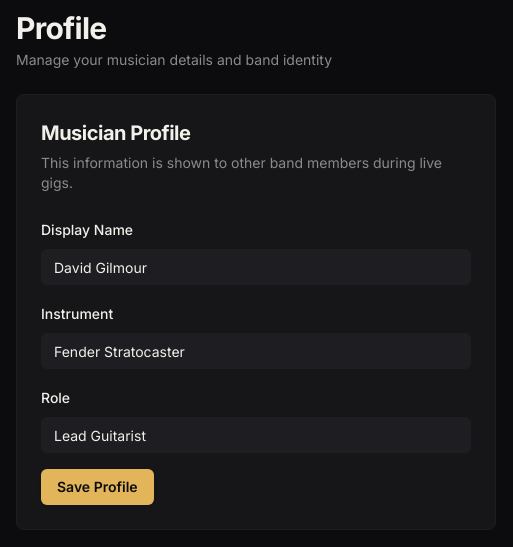
ProfilePage (/profile) › saves updates to users table on save button click
The image size is (513, 547).
Replace the text in the field labelled "Display Name" with "Roger Waters" at (256, 267), box [41, 249, 471, 285]
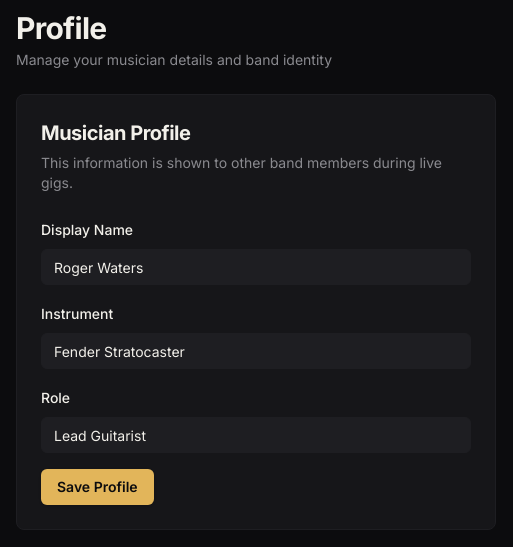
Replace the text in the field labelled "Instrument" with "Bass Guitar" at (256, 351), box [41, 333, 471, 369]
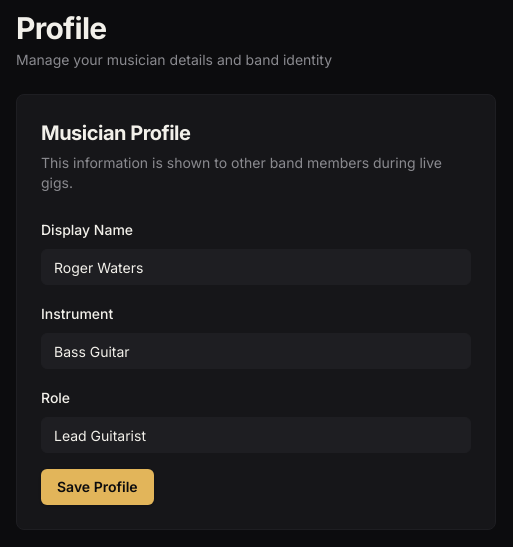
Replace the text in the field labelled "Role" with "Bassist & Vocals" at (256, 435), box [41, 417, 471, 453]
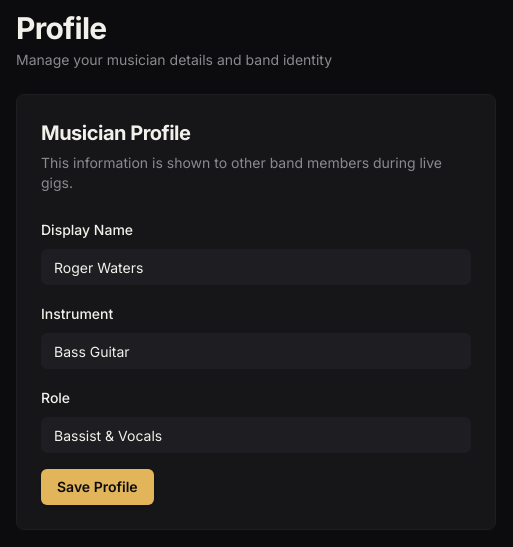
Click the button "Save Profile" at (97, 487), box [41, 469, 154, 505]
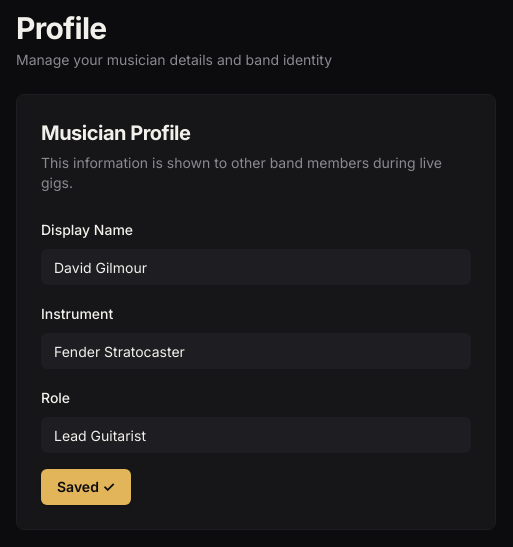
Result: the button "Saved ✓" is shown at [41, 469, 131, 505]
